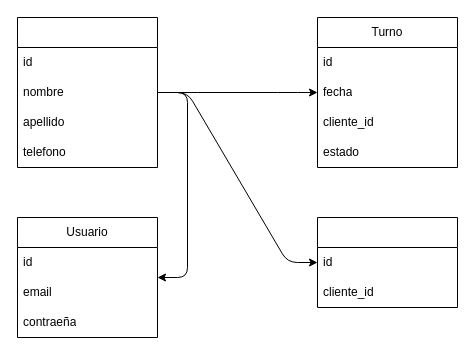
This 475x355 diagram has some shape labels left out. Here are the shapes that lost their labels. From the top down, the box of each, then its label:
(16, 16, 158, 168): Cliente
(316, 216, 458, 308): Planilla
